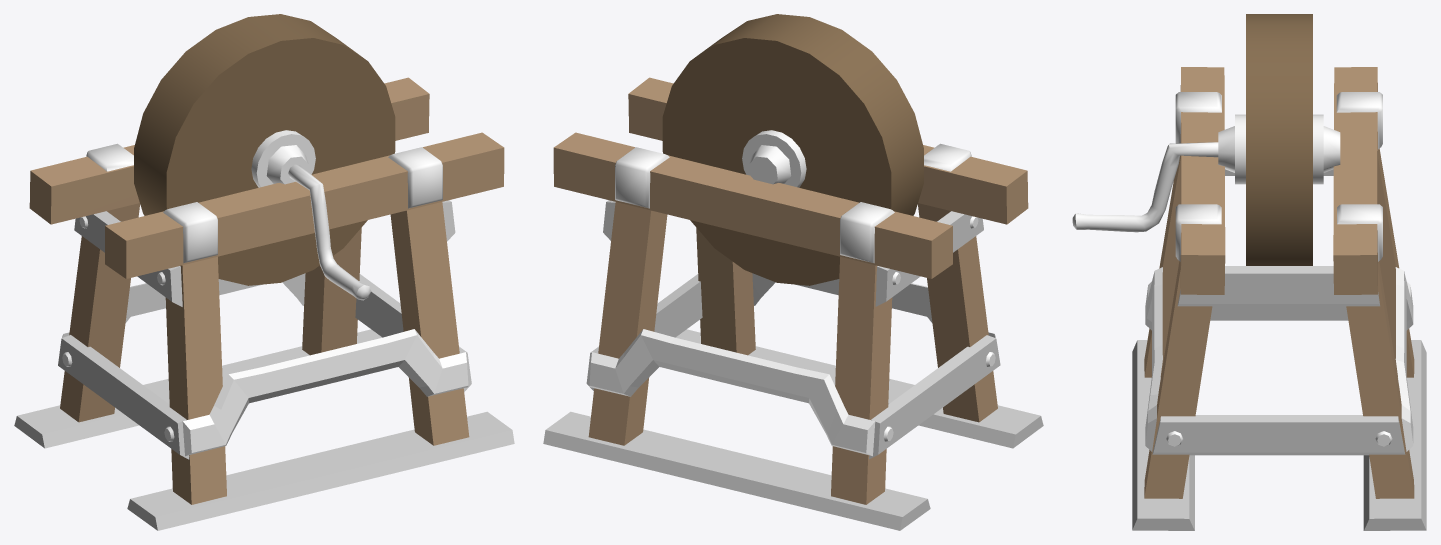
File: whetstone.glb
3 views of the same model, side by side, from view 1: azimuth 30°, elevation 25°; view 2: azimuth 150°, elevation 25°; view 3: azimuth 270°, elevation 25° (orthographic). The views are drawn at different scales.
Parts seen in each view (by area): view 1: Whetstone; view 2: Whetstone; view 3: Whetstone.
Part boxes in pixels (bbox=[...]): Whetstone: bbox=[14, 14, 514, 530]; Whetstone: bbox=[543, 14, 1043, 530]; Whetstone: bbox=[1072, 14, 1426, 530].
Bounding box in the file's own units: 1.14 × 1.17 × 0.9018.
